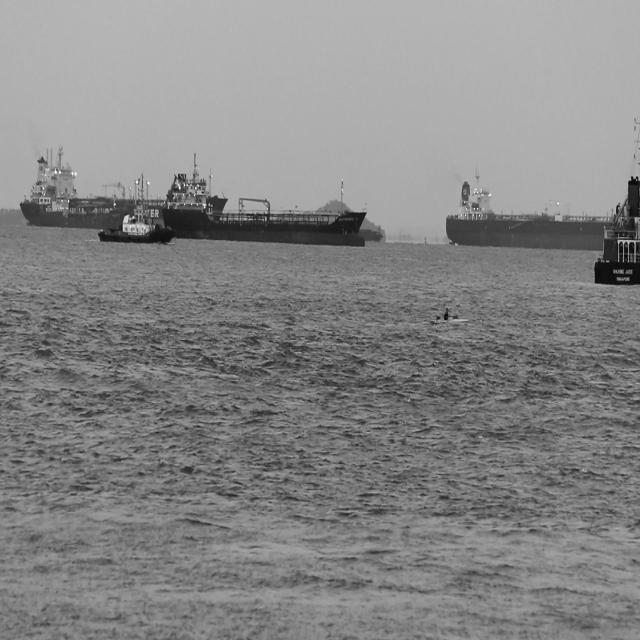kayak: (432, 304, 470, 326)
ship: (162, 150, 366, 247), (445, 163, 615, 250), (17, 144, 167, 231), (592, 115, 639, 286), (96, 203, 178, 246), (356, 222, 384, 243)
